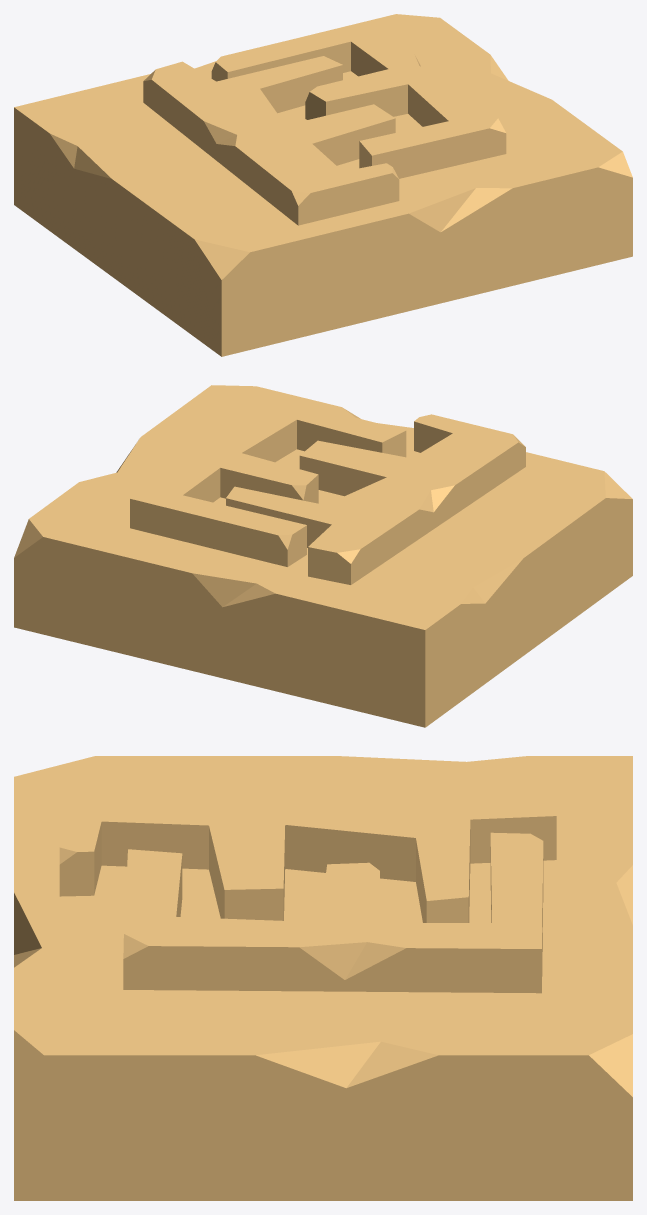
3 views of the same model, one above another, from view 1: azimuth 30°, elevation 25°; view 2: azimuth 150°, elevation 25°; view 3: azimuth 270°, elevation 25° (orthographic). The views are drawn at different scales.
Parts seen in each view (by area): view 1: Box001; view 2: Box001; view 3: Box001.
Boxes of the visible parts, <box> form: Box001: <box>14,14,632,356</box>; Box001: <box>14,385,632,727</box>; Box001: <box>14,756,632,1200</box>.
Bounding box in the file's own units: 14.95 × 4.42 × 13.08.
1 material, 1 textured.
